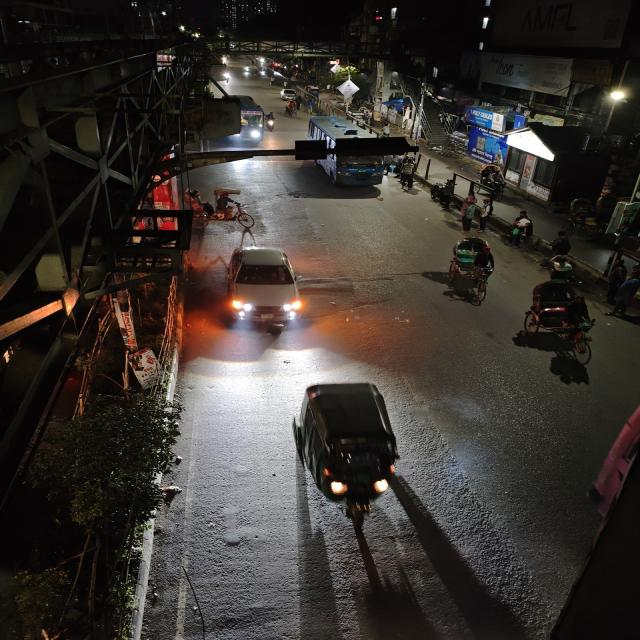bus: (308, 119, 384, 189), (233, 94, 267, 144)
car: (221, 243, 304, 336), (277, 87, 295, 99)
cng: (288, 379, 406, 521)
motorcycle: (428, 182, 456, 214), (264, 109, 278, 136)
pedestrian: (608, 272, 640, 318), (546, 232, 574, 266), (395, 158, 420, 193), (510, 212, 531, 248), (459, 200, 480, 233), (471, 201, 490, 233)
rickshaw: (519, 278, 602, 366), (440, 235, 499, 303), (203, 189, 258, 235), (280, 98, 298, 119)
